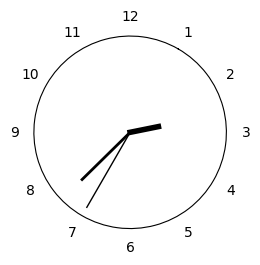12: (123, 9, 139, 22)
circle: (34, 36, 227, 229)
hours: (127, 123, 162, 135)
minutes: (81, 135, 128, 180)
seconds: (86, 135, 128, 208)
